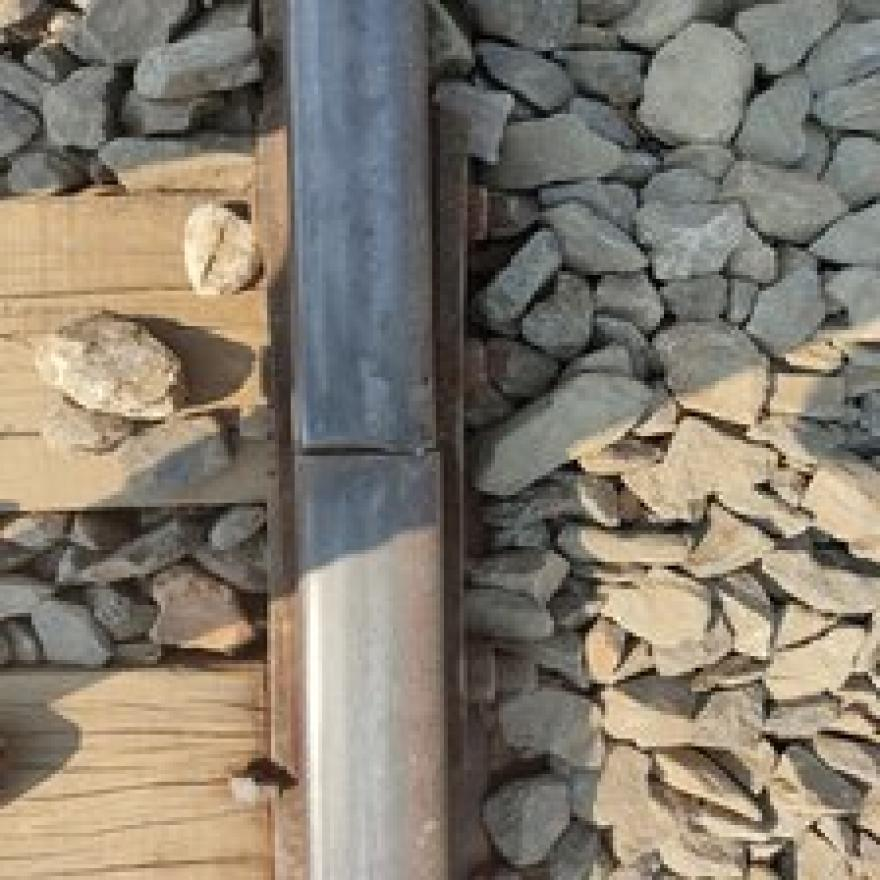railway-gap: (218, 301, 517, 604)
